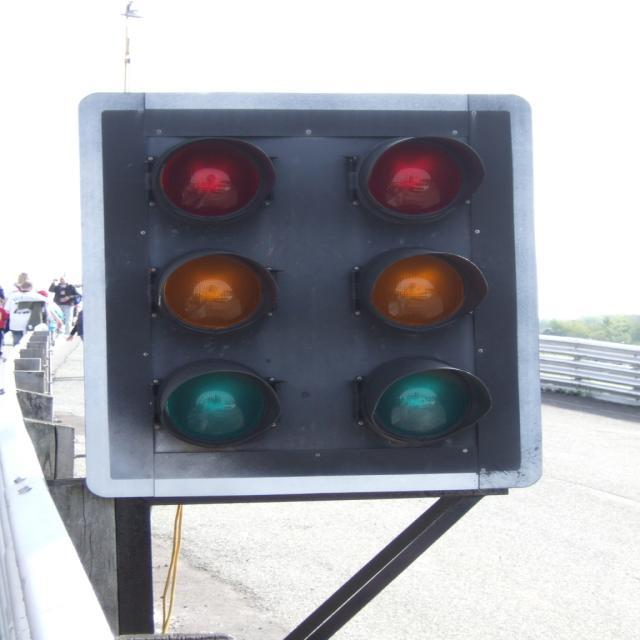traffic light: (311, 106, 517, 459), (131, 104, 301, 462)
